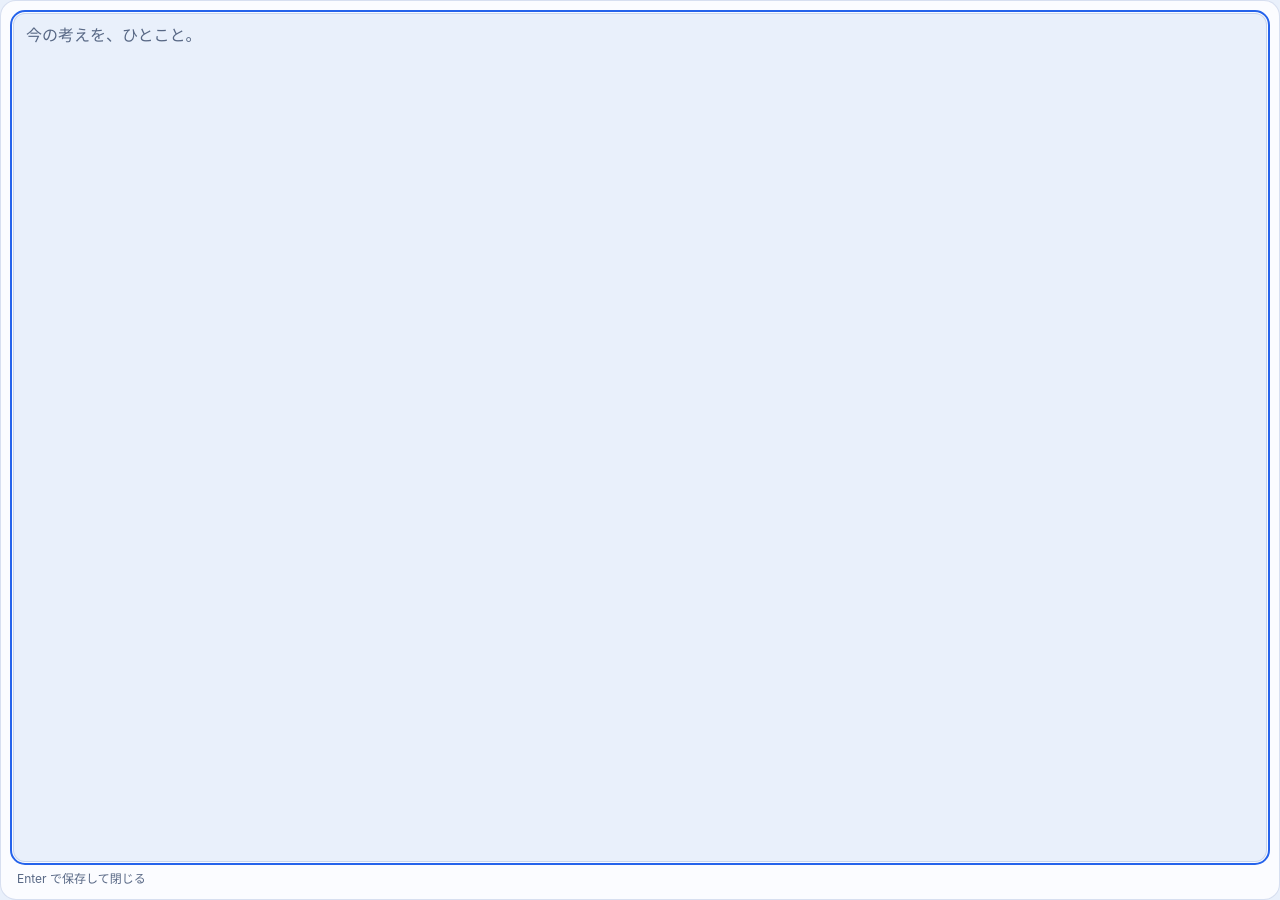
Test case: クイックキャプチャのウィンドウ › Enter で Inbox に取り込み、入力欄を空にする
Type "思いついたこと" into the text box named "クイックキャプチャ" at (640, 437), box [13,13,1267,862]
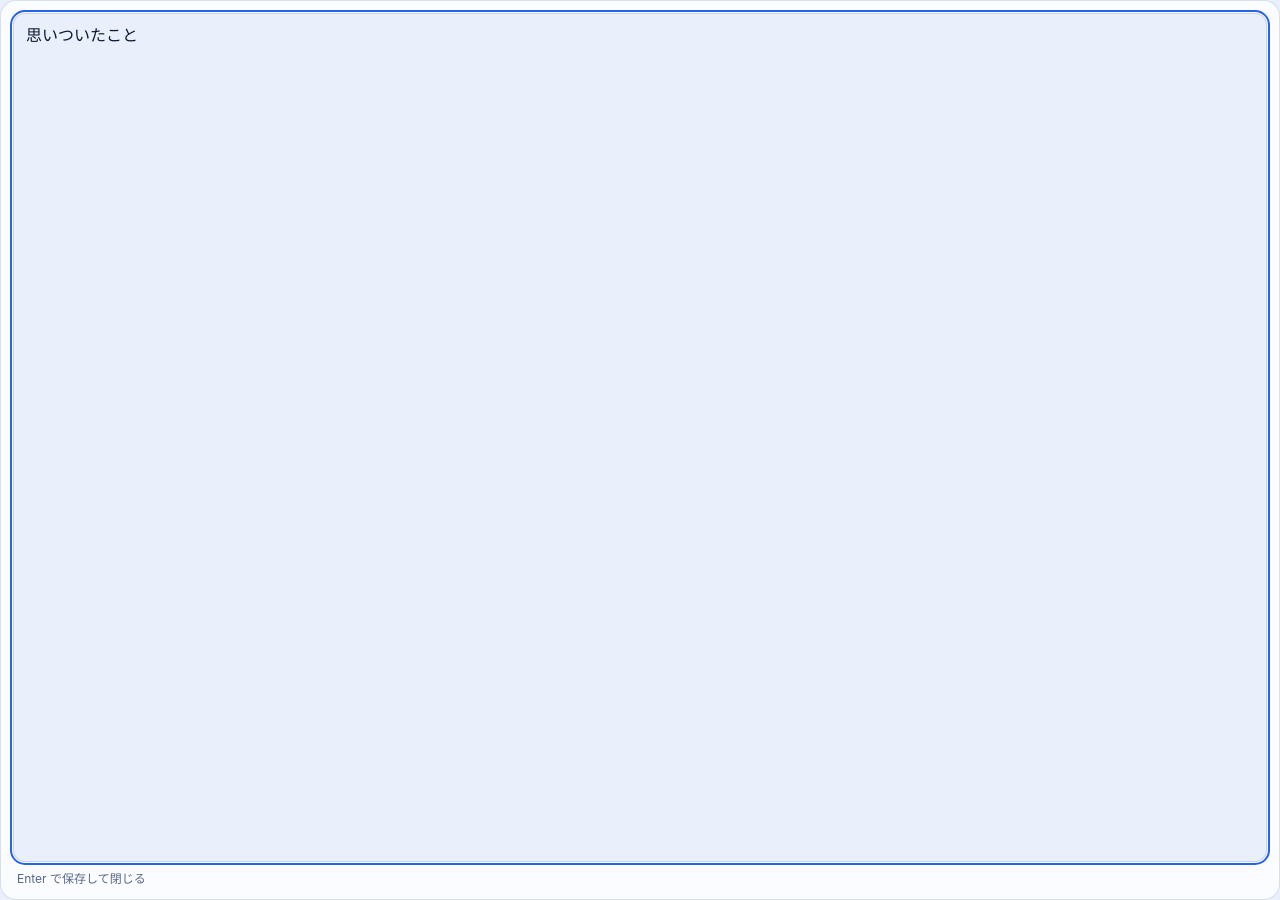
Press Enter in the text box named "クイックキャプチャ"
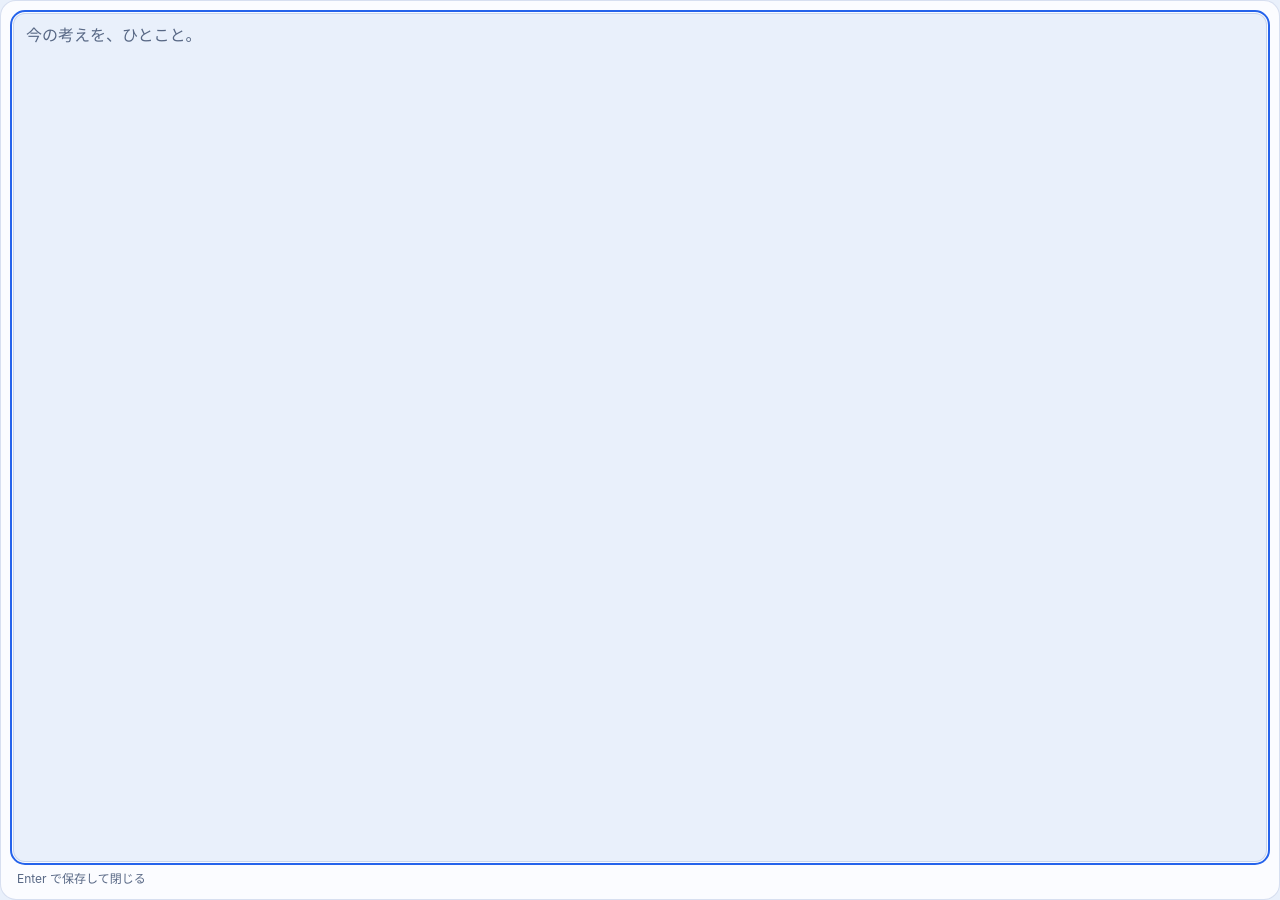
Expected: the text box named "クイックキャプチャ" is empty
